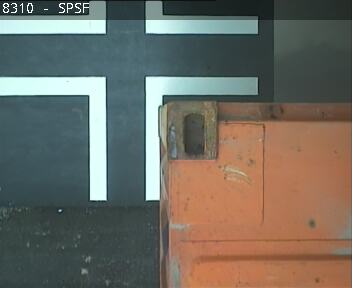groundmarker_1: (1, 75, 258, 200), (1, 1, 258, 36)
